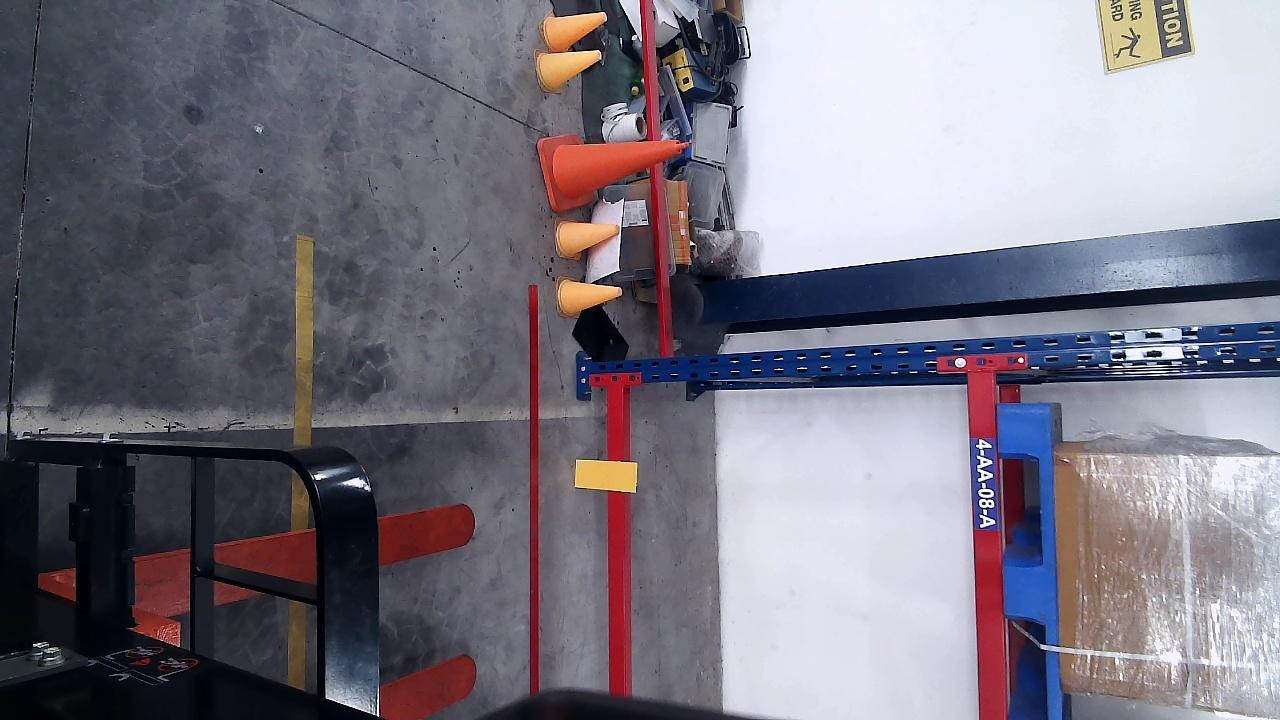h_rack: (966, 370, 1005, 719), (604, 388, 633, 697), (525, 285, 543, 694)
orange_strip: (575, 461, 638, 491)
small_pallet: (997, 406, 1060, 720)
yellow_line: (296, 235, 316, 442)
